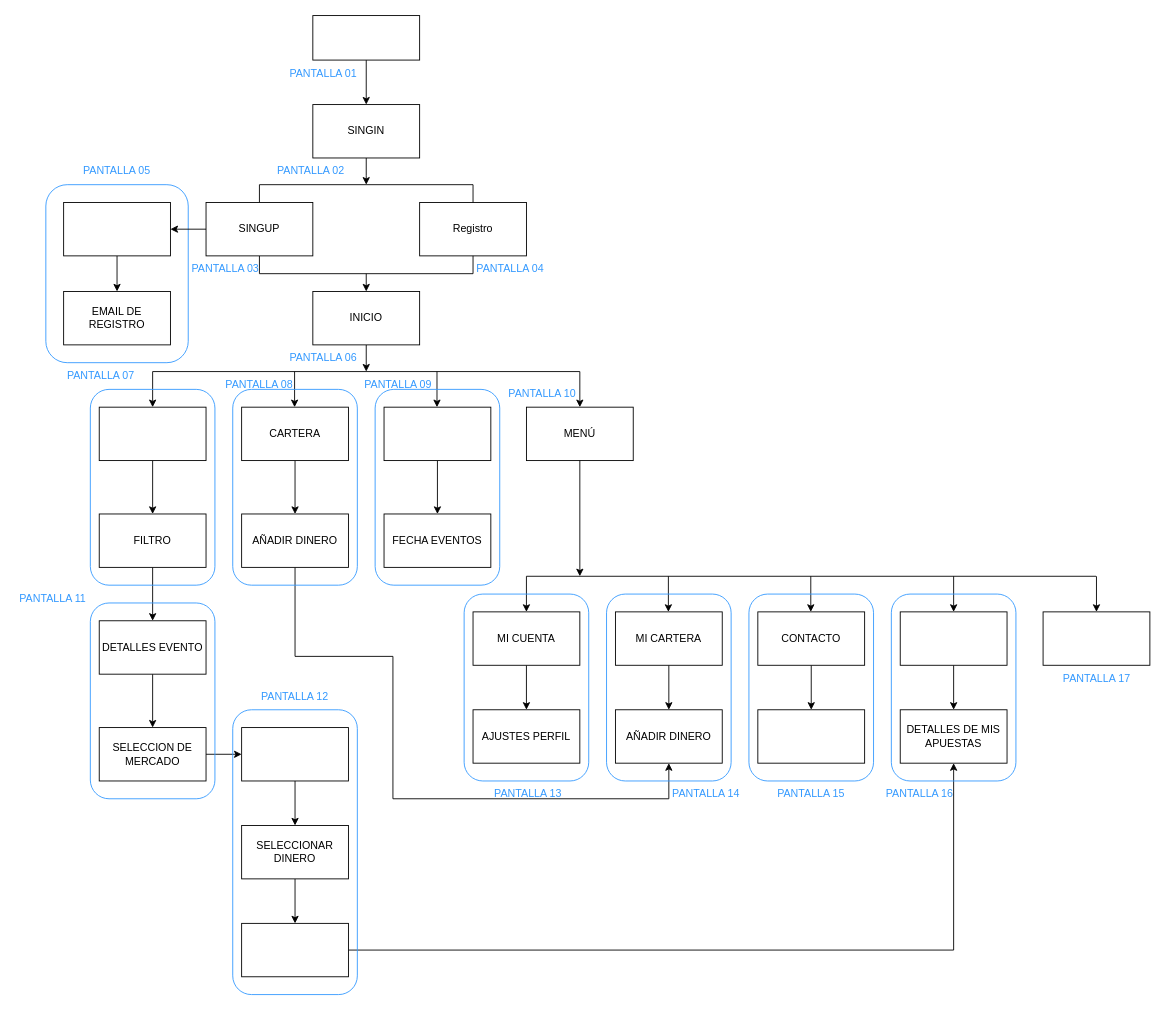
Some shapes in this 1165 by 1010 pixel diagram are drawn without their labels. Here are the shapes that lost their labels. From the top down, the centre of each, then its label:
the point at 366,37: Place My Bet
the point at 116,229: Contraseña olvidada
the point at 152,433: EVENTOS
the point at 437,433: CALENDARIO
the point at 953,638: MIS APUESTAS
the point at 1096,638: LOGOUT
the point at 294,754: APUESTA
the point at 811,736: ENVIAR MENSAJE
the point at 294,949: ACEPTAR APUESTA
